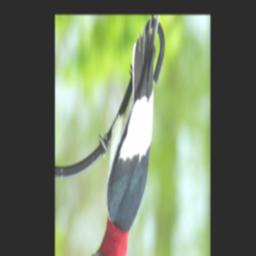Woodpecker: (82, 17, 162, 256)
